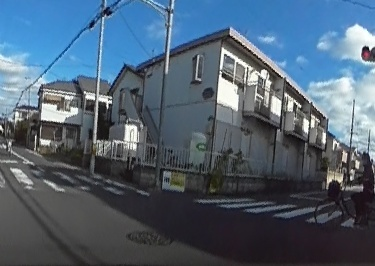person: (352, 150, 375, 226)
